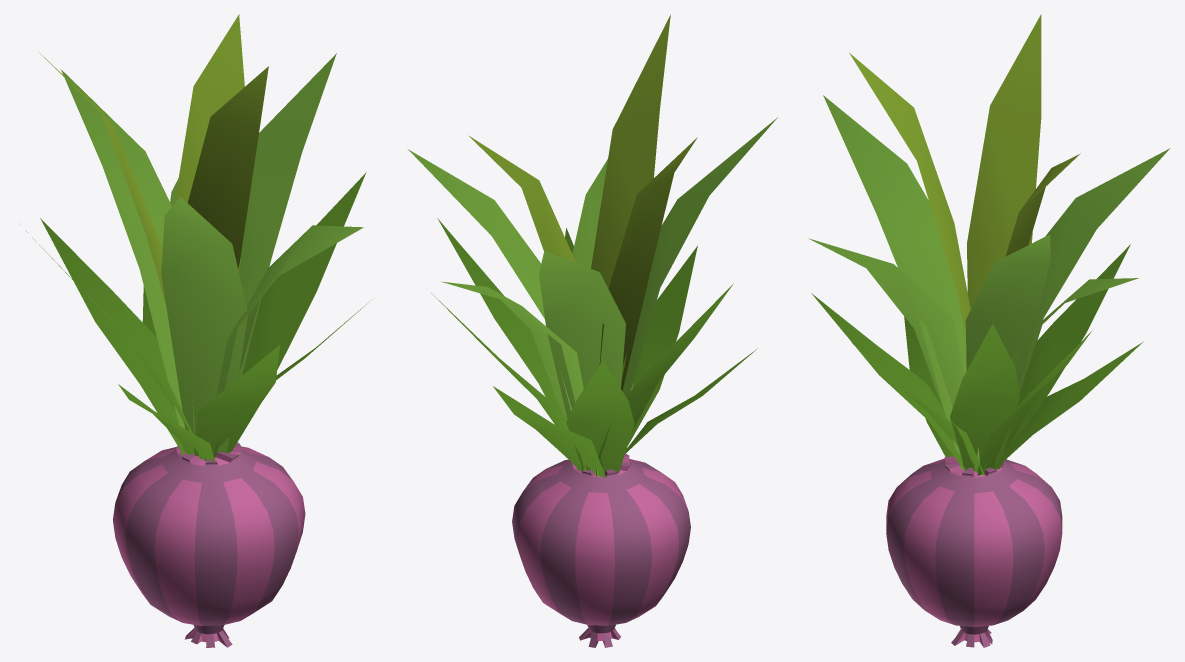
File: OnionFloor.obj
3 renders of one model, left to right at view 1: azimuth 30°, elevation 25°; view 2: azimuth 150°, elevation 25°; view 3: azimuth 270°, elevation 25°, orthographic. The views are drawn at different scales.
Visible parts, largest first — view 1: plantinhas:Default plantinhas:group31 OnionFloor, OnionFloor; view 2: plantinhas:Default plantinhas:group31 OnionFloor, OnionFloor; view 3: plantinhas:Default plantinhas:group31 OnionFloor, OnionFloor.
Boxes of the visible parts, left/top/right/bottom form: plantinhas:Default plantinhas:group31 OnionFloor: left=19, top=14, right=371, bottom=461; OnionFloor: left=113, top=442, right=305, bottom=647; plantinhas:Default plantinhas:group31 OnionFloor: left=408, top=14, right=777, bottom=477; OnionFloor: left=512, top=453, right=690, bottom=647; plantinhas:Default plantinhas:group31 OnionFloor: left=808, top=14, right=1170, bottom=475; OnionFloor: left=886, top=456, right=1062, bottom=647.
Size of the model in its own units: 0.5952 by 1.06 by 0.5936.
Materials: 2 (2 with a texture image).
